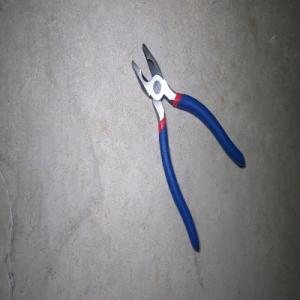Pliers: (131, 42, 245, 252)
